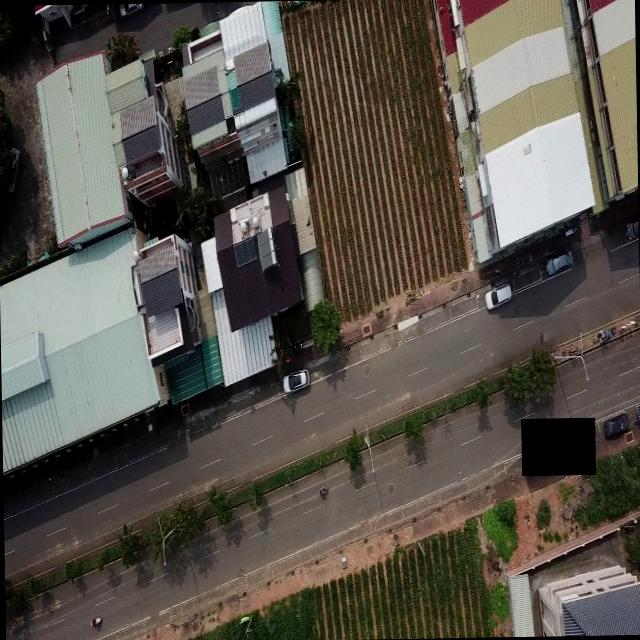car: (484, 282, 513, 310), (602, 412, 629, 439), (281, 368, 309, 394), (545, 250, 573, 275), (118, 4, 144, 16), (635, 401, 640, 426)
